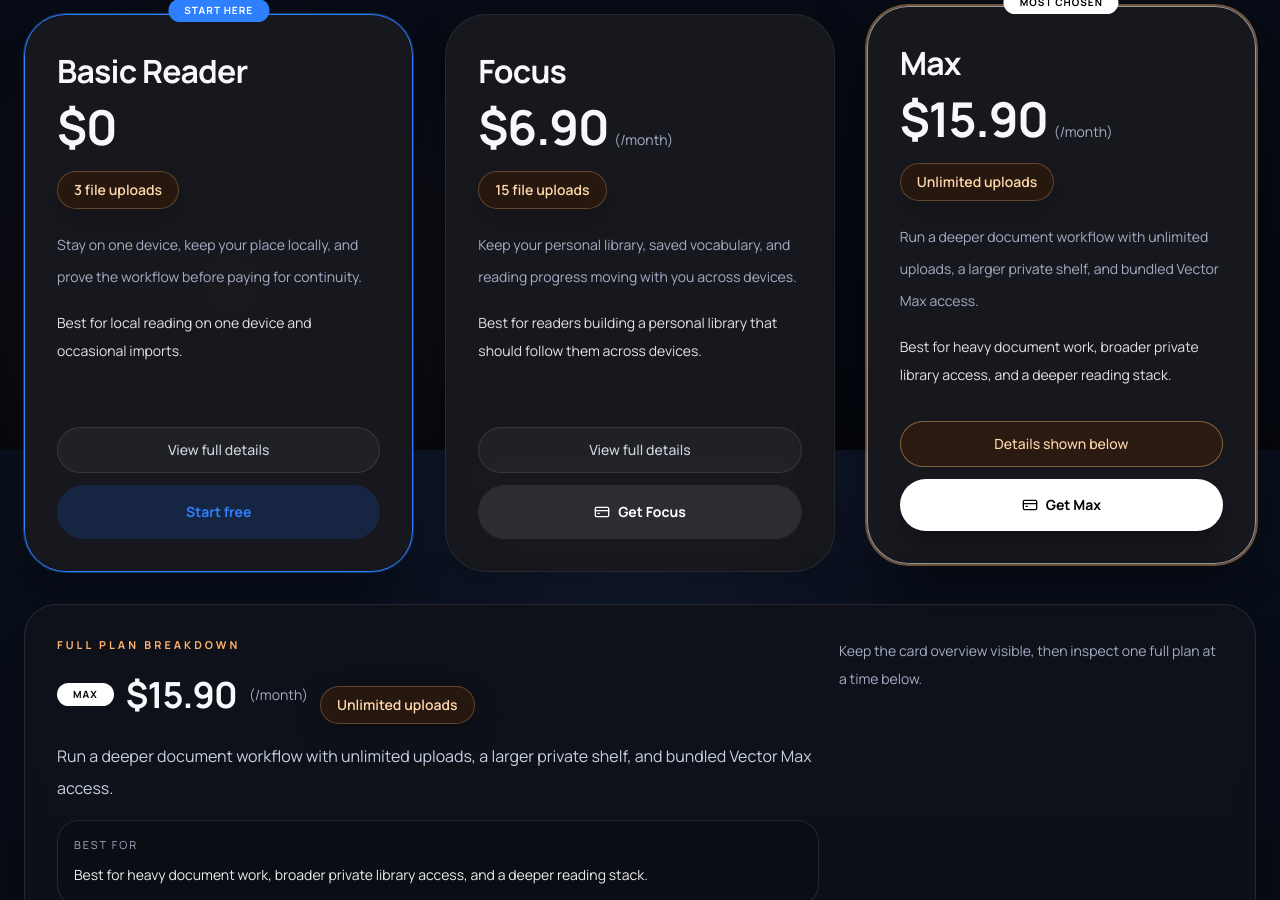
PricingPageContent › renders the three pricing plans and defaults to the global payment option in English
The width and height of the screenshot is (1280, 900).
(page scrolled)
Expected: the heading "Basic Reader" is shown, x1=57 y1=49 x2=247 y2=93
Expected: the heading "Focus" is shown, x1=478 y1=49 x2=566 y2=93
Click the button "View full details" below "3 file uploads" at [219, 450], box x1=57 y1=427 x2=380 y2=473
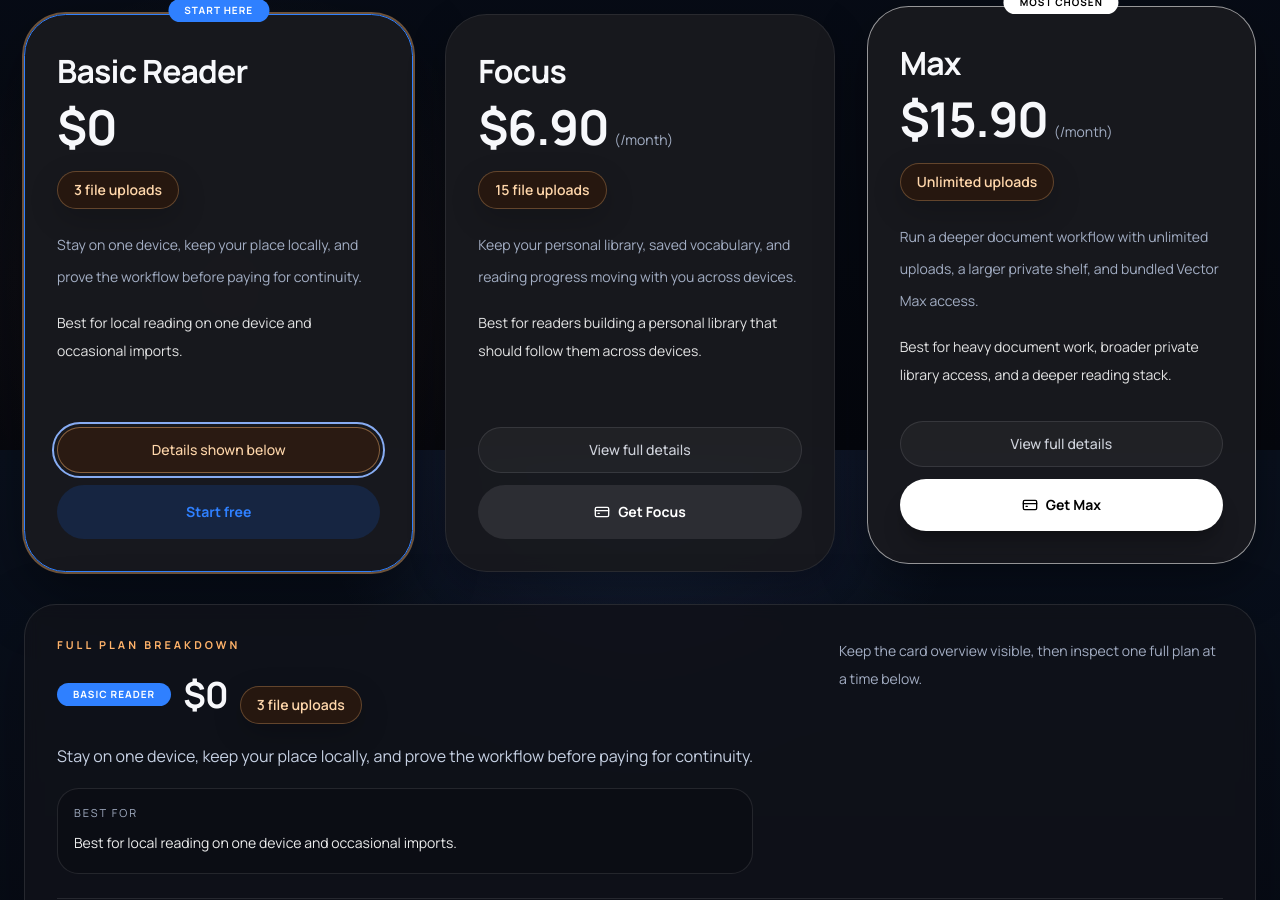
Click the button "View full details" below "15 file uploads" at [640, 450], box x1=478 y1=427 x2=802 y2=473
(page scrolled)
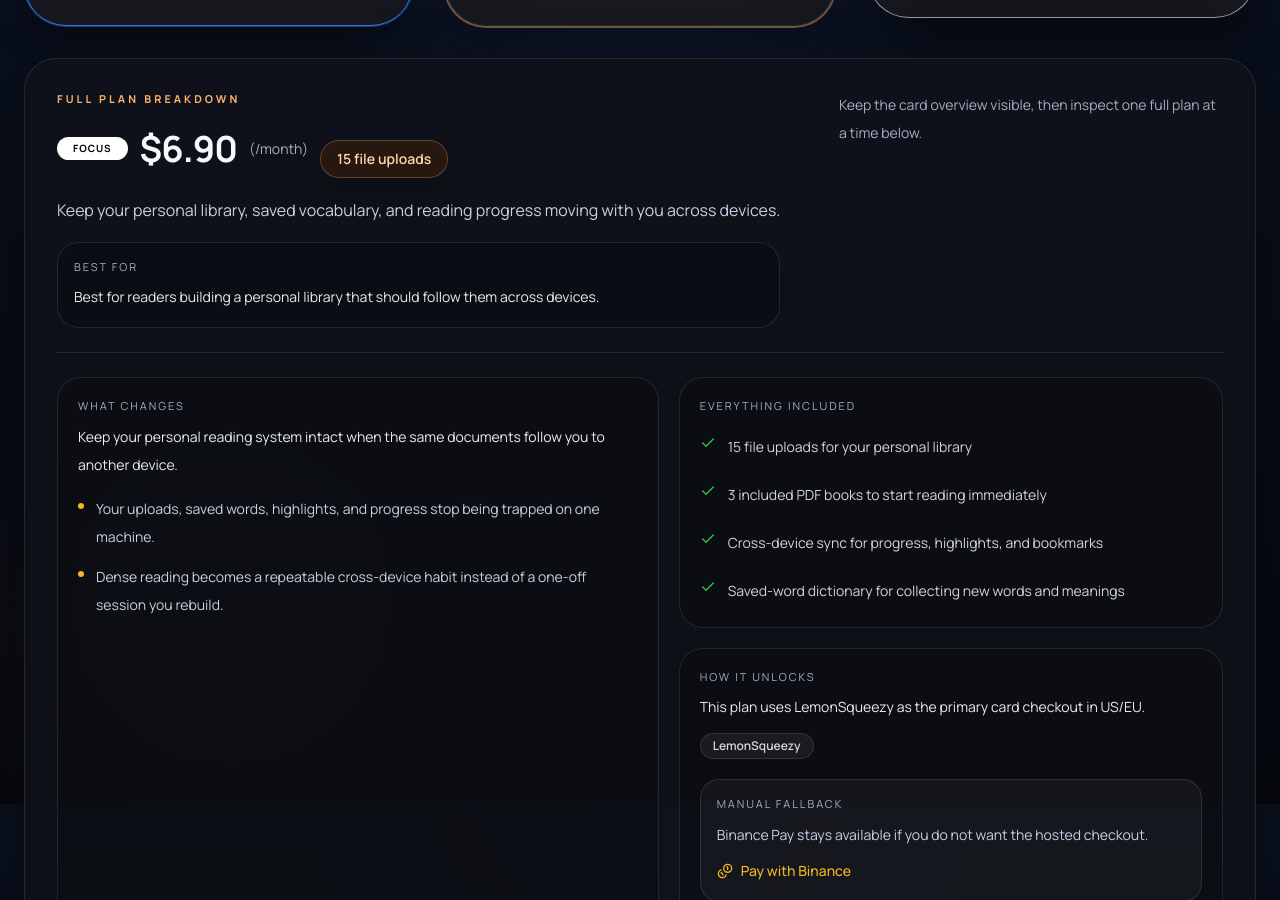
Expected: the text "keep your personal reading system intact when the same documents follow you to another device" is shown, x1=78 y1=427 x2=605 y2=474
